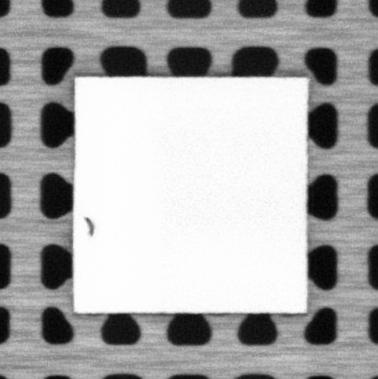DIE_INK: (83, 215, 95, 237)
